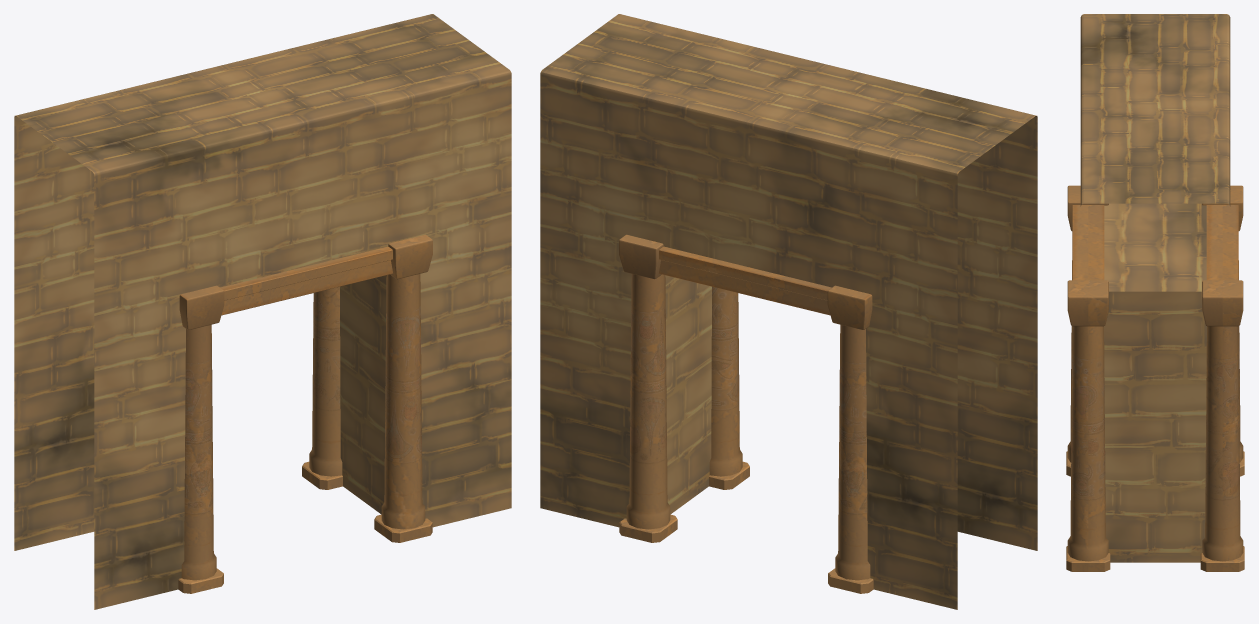
The model's file is SM_Env_Wall_Door_B.fbx.
3 views of the same model, side by side, from view 1: azimuth 30°, elevation 25°; view 2: azimuth 150°, elevation 25°; view 3: azimuth 270°, elevation 25° (orthographic). The views are drawn at different scales.
Visible parts, largest first — view 1: Wall_Door_B; view 2: Wall_Door_B; view 3: Wall_Door_B.
Boxes of the visible parts, x1,y1,x2,y2 form: Wall_Door_B: [14, 14, 511, 609]; Wall_Door_B: [540, 14, 1037, 609]; Wall_Door_B: [1066, 14, 1244, 571].
Bounding box in the file's own units: 300 × 300 × 119.
Materials: 2 (2 with a texture image).
